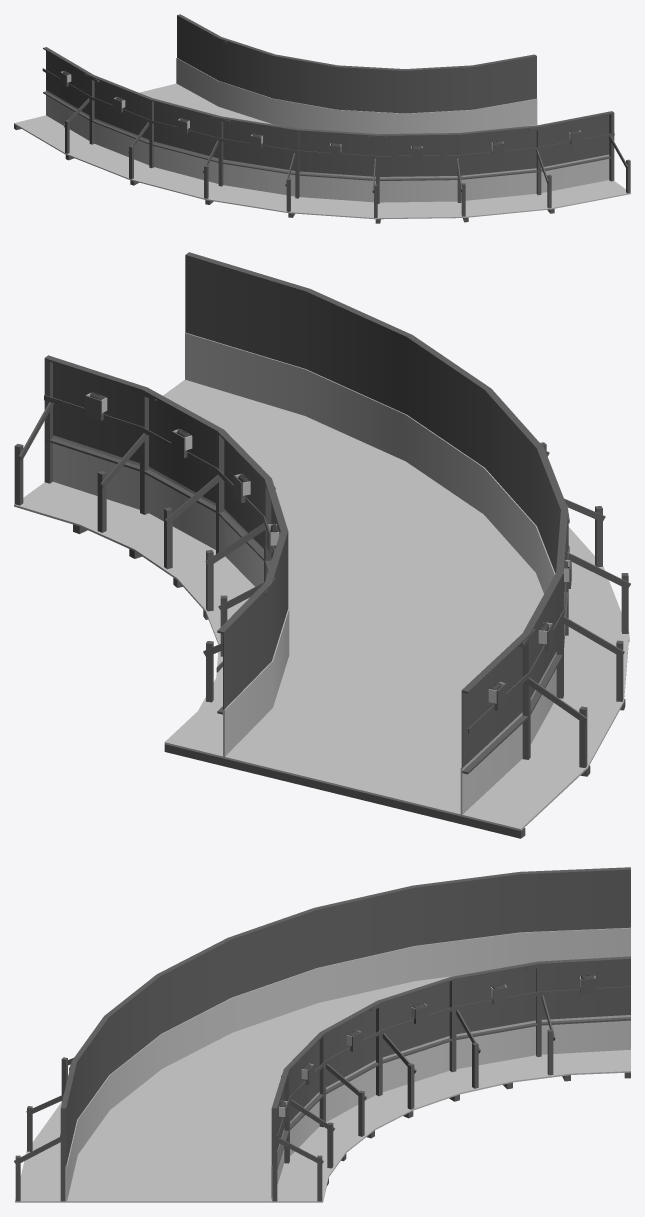
The model's file is wood_turnl_576.fbx.
The picture shows the model from 3 angles, top to bottom: view 1: azimuth 30°, elevation 25°; view 2: azimuth 150°, elevation 25°; view 3: azimuth 270°, elevation 25°; orthographic projection. The views are drawn at different scales.
Parts seen in each view (by area): view 1: wood_turnL_576; view 2: wood_turnL_576; view 3: wood_turnL_576.
Boxes of the visible parts, <box> form: wood_turnL_576: <box>14,14,630,223</box>; wood_turnL_576: <box>14,252,630,838</box>; wood_turnL_576: <box>14,867,630,1202</box>.
Bounding box in the file's own units: 768 × 138 × 769.
